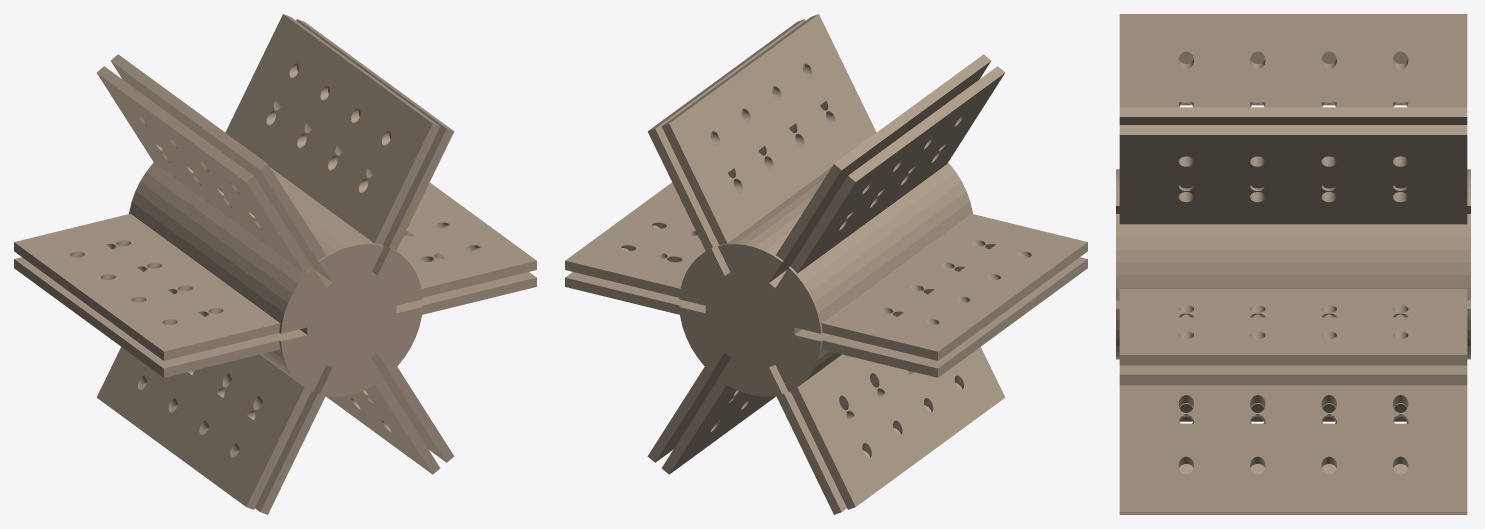
The picture shows the model from 3 angles, left to right: view 1: azimuth 30°, elevation 25°; view 2: azimuth 150°, elevation 25°; view 3: azimuth 270°, elevation 25°; orthographic projection. The views are drawn at different scales.
Visible parts, largest first — view 1: P-05_0; view 2: P-05_0; view 3: P-05_0.
Part boxes in pixels (x1=…): P-05_0: x1=14, y1=14, x2=536, y2=514; P-05_0: x1=565, y1=14, x2=1087, y2=514; P-05_0: x1=1116, y1=14, x2=1470, y2=514.
Bounding box in the file's own units: 420 × 378 × 298.
